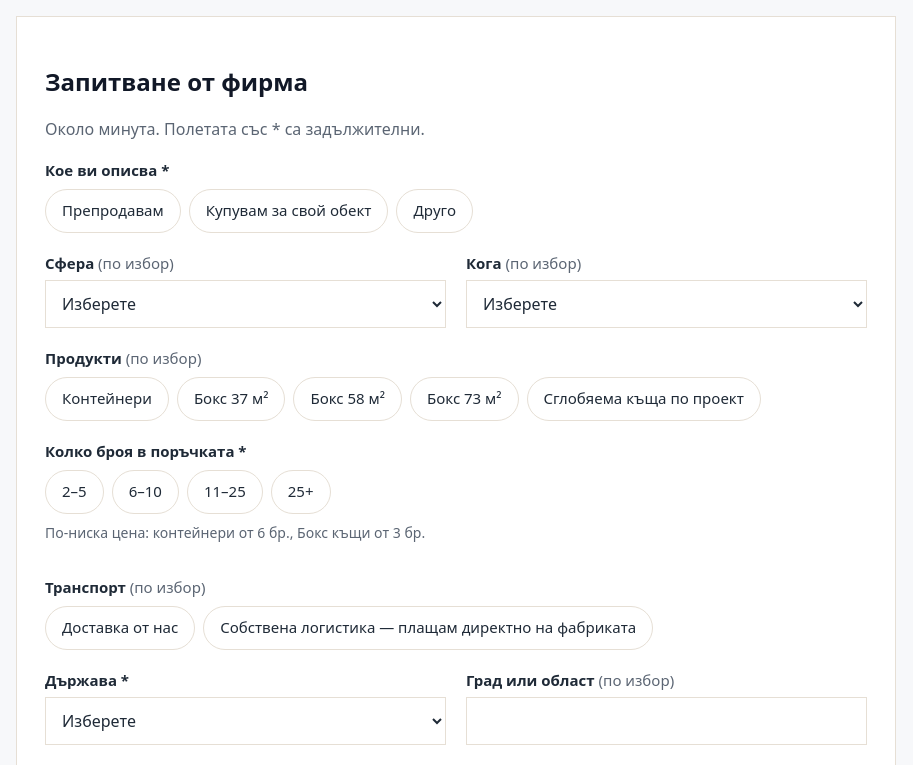
PartnerEnquiry › the Box lead-time note › does not appear for containers alone, or a later date
Step 1. Click the checkbox labelled "Контейнери" → (107, 399), box 45,377 -> 169,421
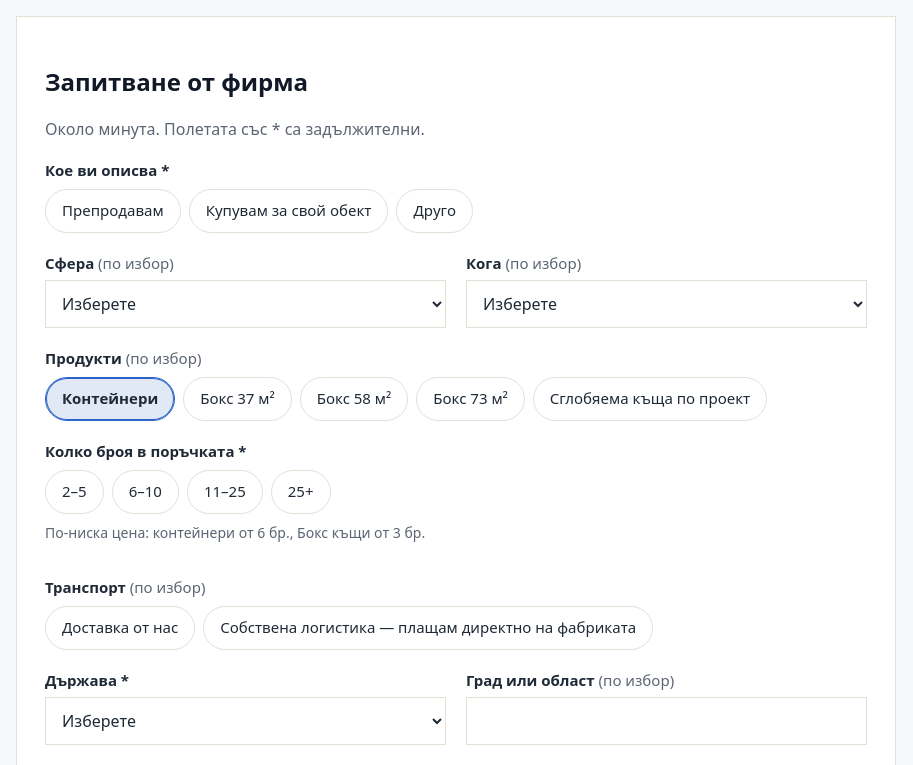
Step 2. Select "До 1 месец" in the dropdown labelled "Кога (по избор)" → (666, 304), box 466,280 -> 867,328
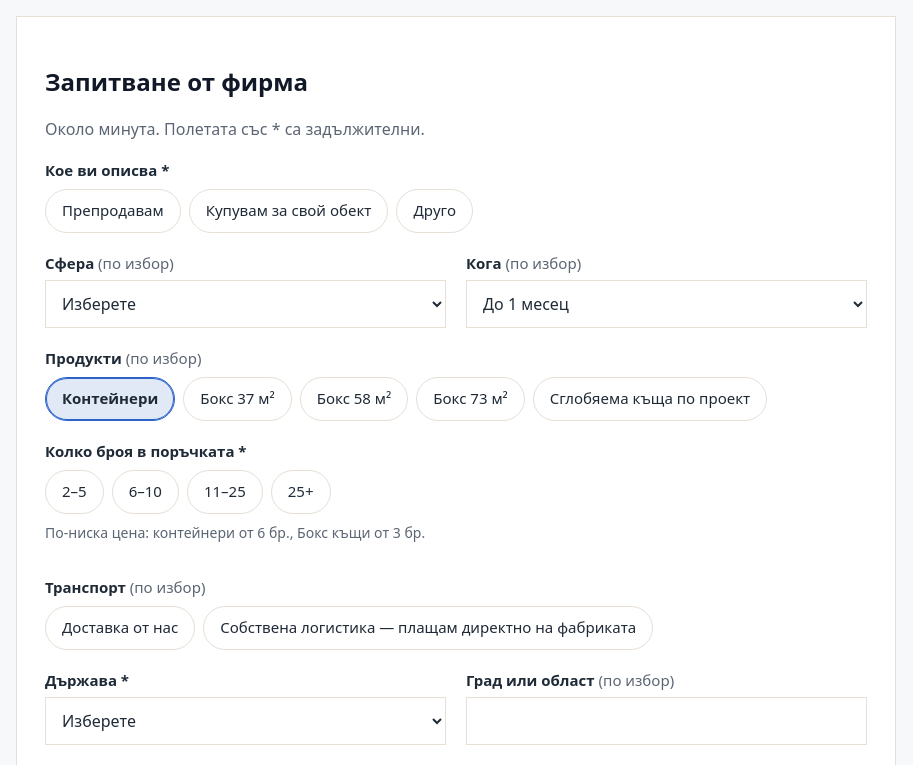
Step 3. Click the checkbox labelled "Бокс 73 м²" → (471, 399), box 416,377 -> 525,421
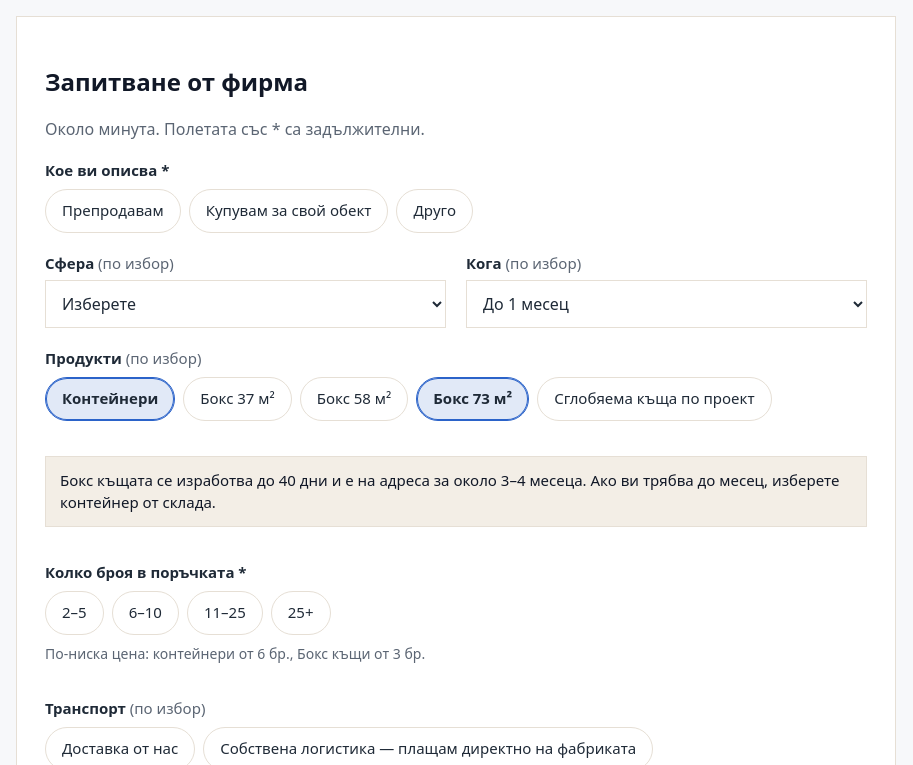
Expected: the message is shown, 45,456 -> 867,527
Step 4. Select "3–6 месеца" in the dropdown labelled "Кога (по избор)" → (666, 304), box 466,280 -> 867,328
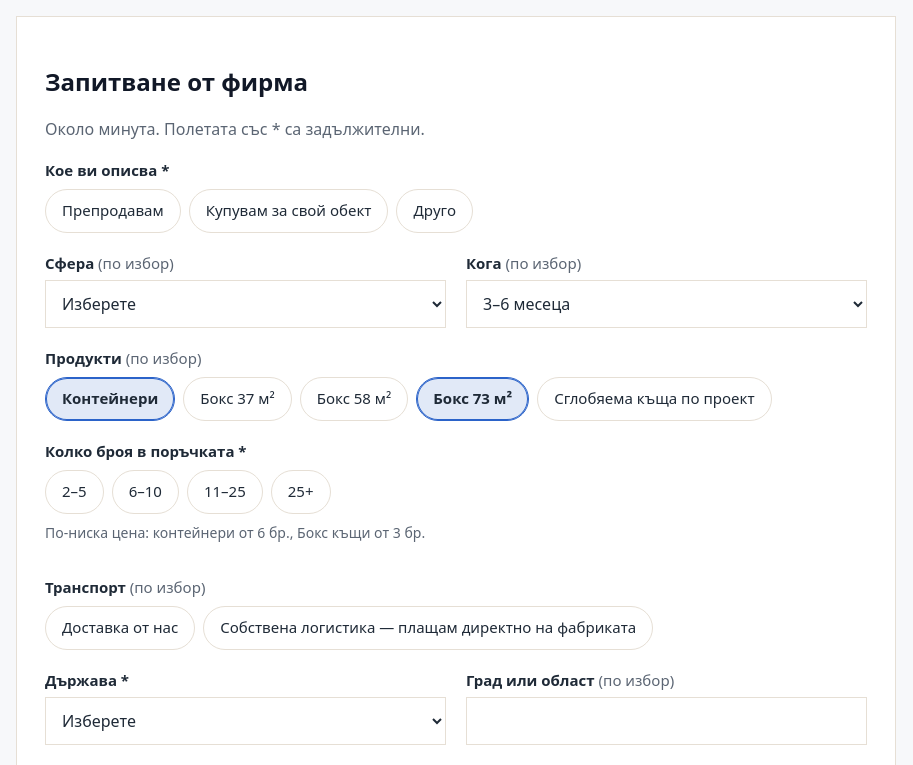
Expected: the message is gone
